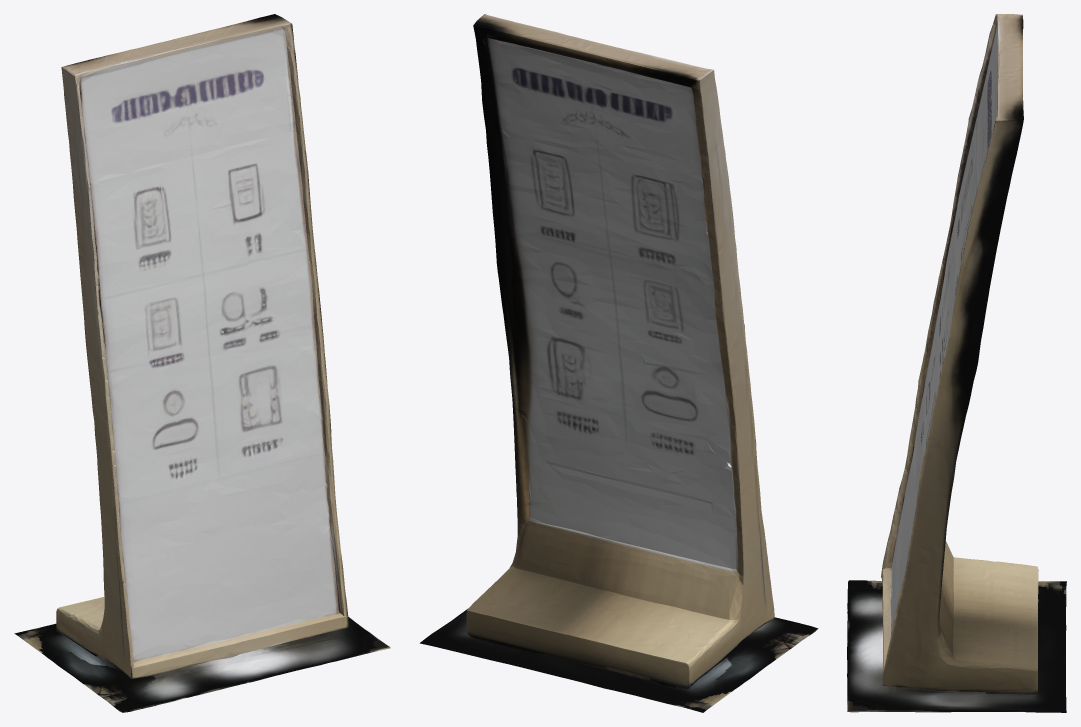
The picture shows the model from 3 angles, left to right: view 1: azimuth 30°, elevation 25°; view 2: azimuth 150°, elevation 25°; view 3: azimuth 270°, elevation 25°; orthographic projection. The views are drawn at different scales.
Parts seen in each view (by area): view 1: world; view 2: world; view 3: world.
Boxes of the visible parts, bbox=[...] form: world: bbox=[14, 14, 390, 712]; world: bbox=[420, 14, 818, 712]; world: bbox=[847, 14, 1066, 712].
Size of the model in its own units: 0.4885 by 1 by 0.3436.
Materials: 1 (1 with a texture image).
